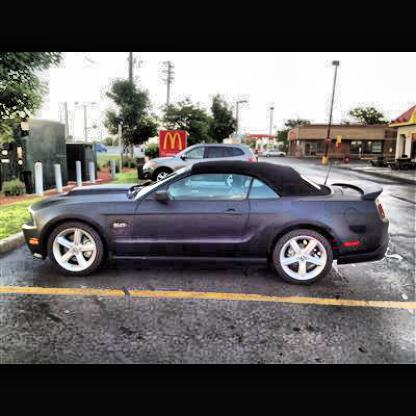Ford Mustang Convertible 2007: (21, 160, 391, 287)
